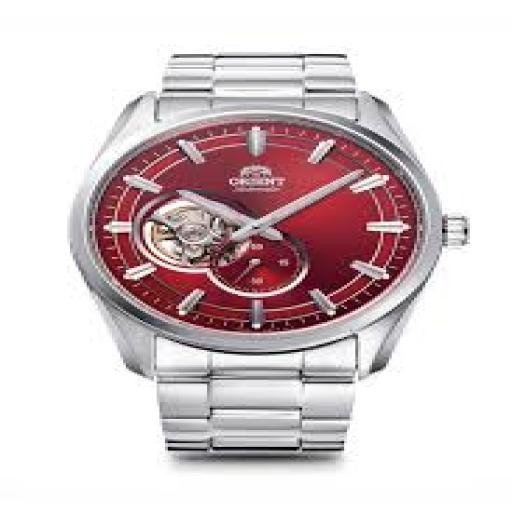KolSaati: (68, 44, 476, 480)
